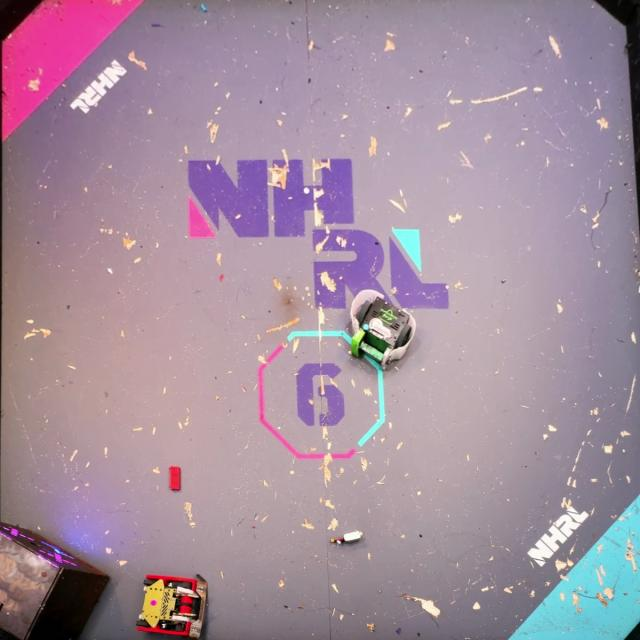housebot: (0, 518, 110, 640)
robot: (350, 288, 416, 369), (134, 570, 208, 640)
